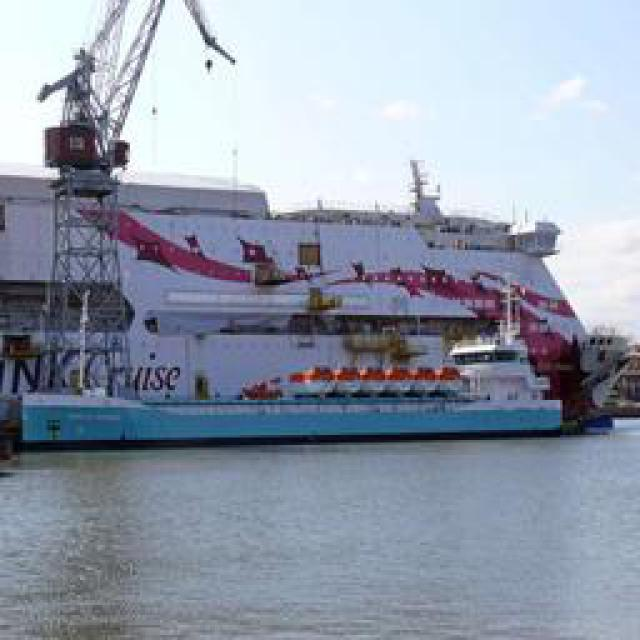Ship: (26, 156, 616, 446)
